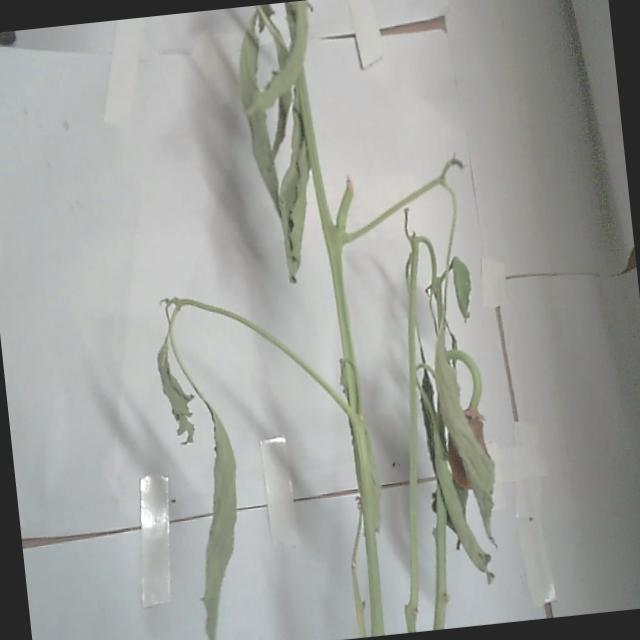Leaf: (177, 399, 254, 640), (267, 103, 322, 277), (150, 306, 199, 443)
